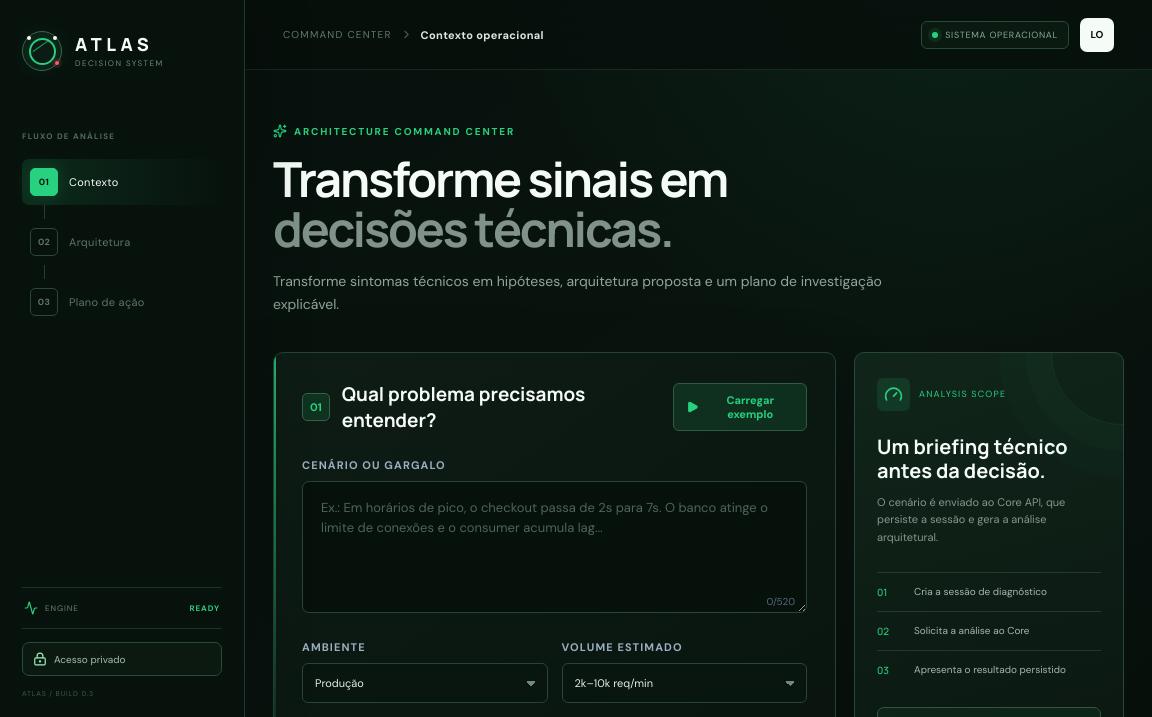
it: api mode (integrated with atlas-core-api) › shows a readable message when the Core API returns a validation problem
Click the button "Carregar exemplo".
click(740, 407)  # box [673,383,807,431]
(page scrolled)
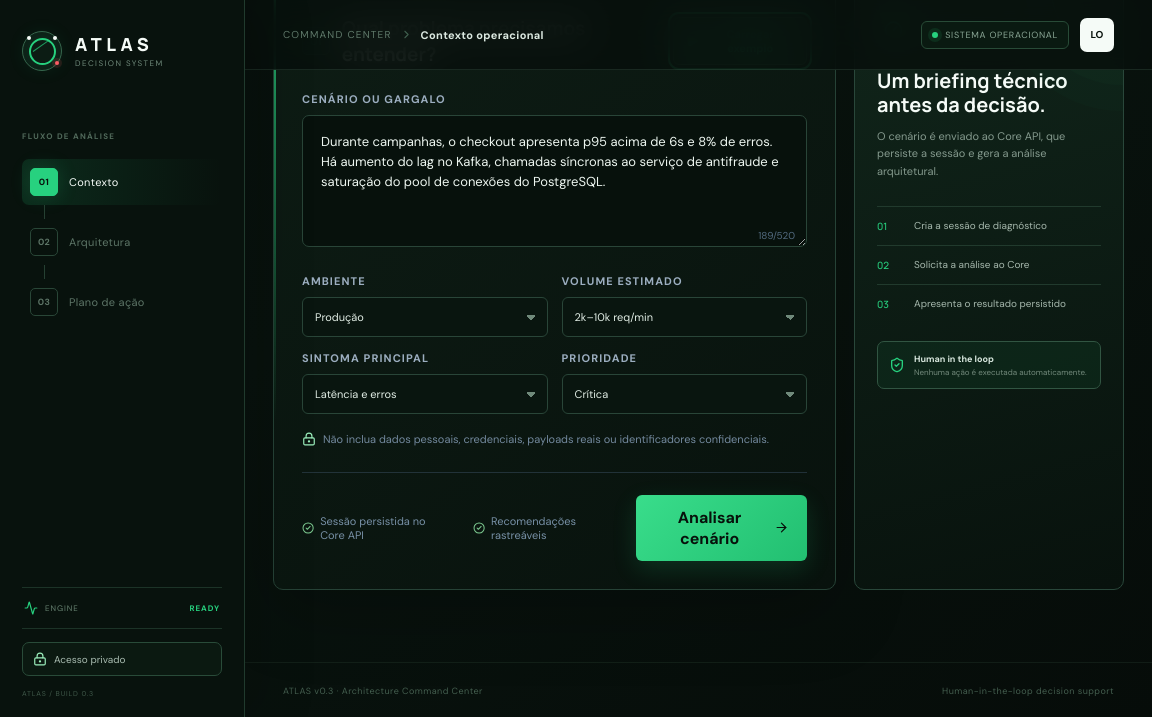
Click the button "Analisar cenário".
click(722, 528)  # box [636,495,807,561]
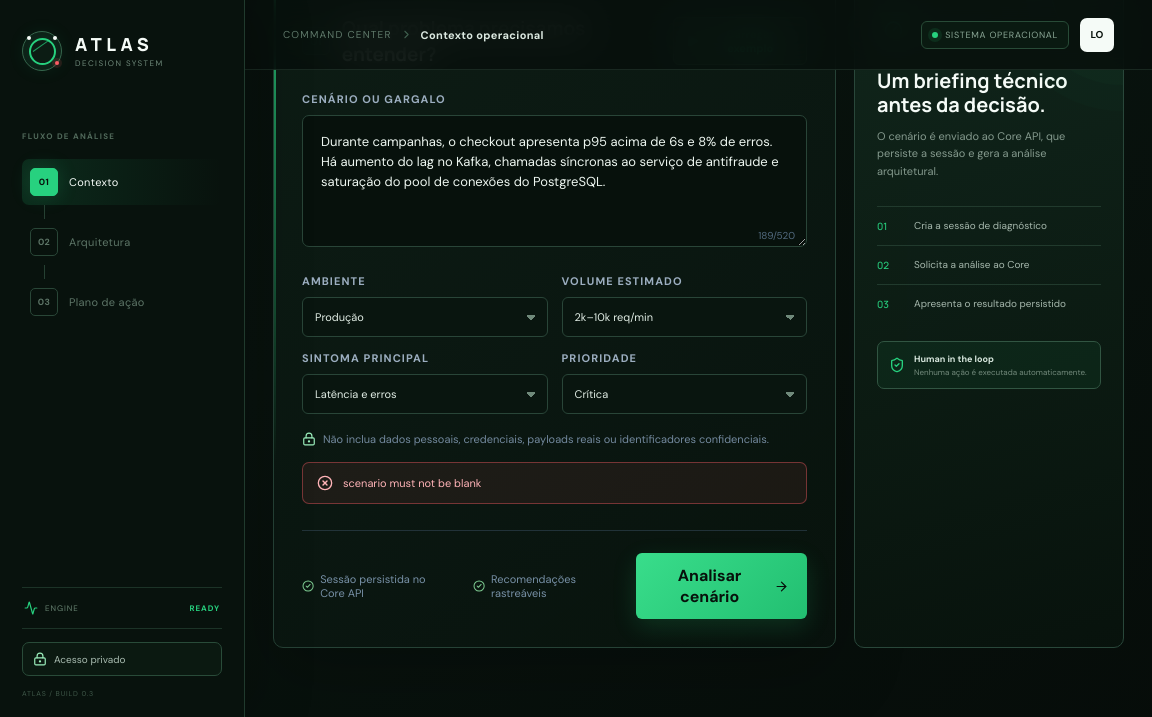
expect the button "Analisar cenário" is enabled: met, box [636,553,807,619]
expect the text "scenario must not be blank" is shown: met, box [343,475,481,491]
